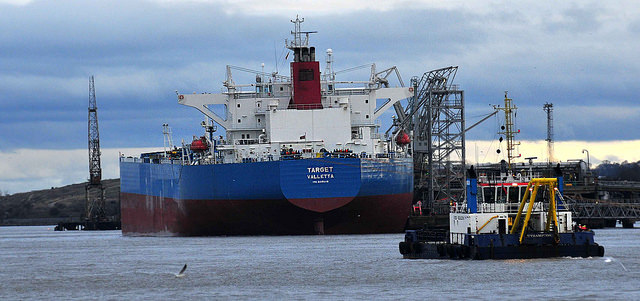tanker: (111, 38, 387, 242)
tug_boat: (397, 150, 607, 262)
